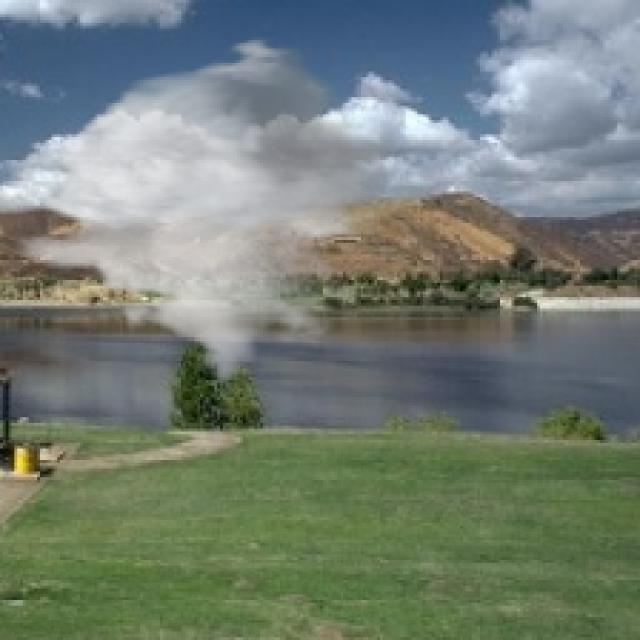Smoke: (14, 34, 403, 380)
